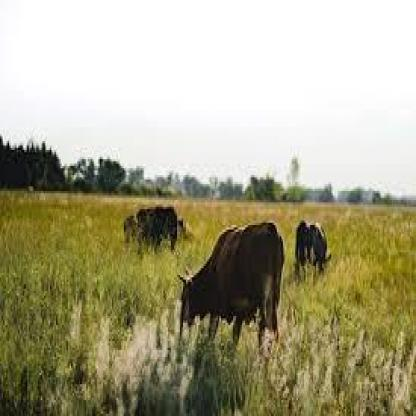cow: (176, 222, 285, 349), (137, 207, 190, 254), (293, 219, 332, 276), (123, 214, 137, 245)
